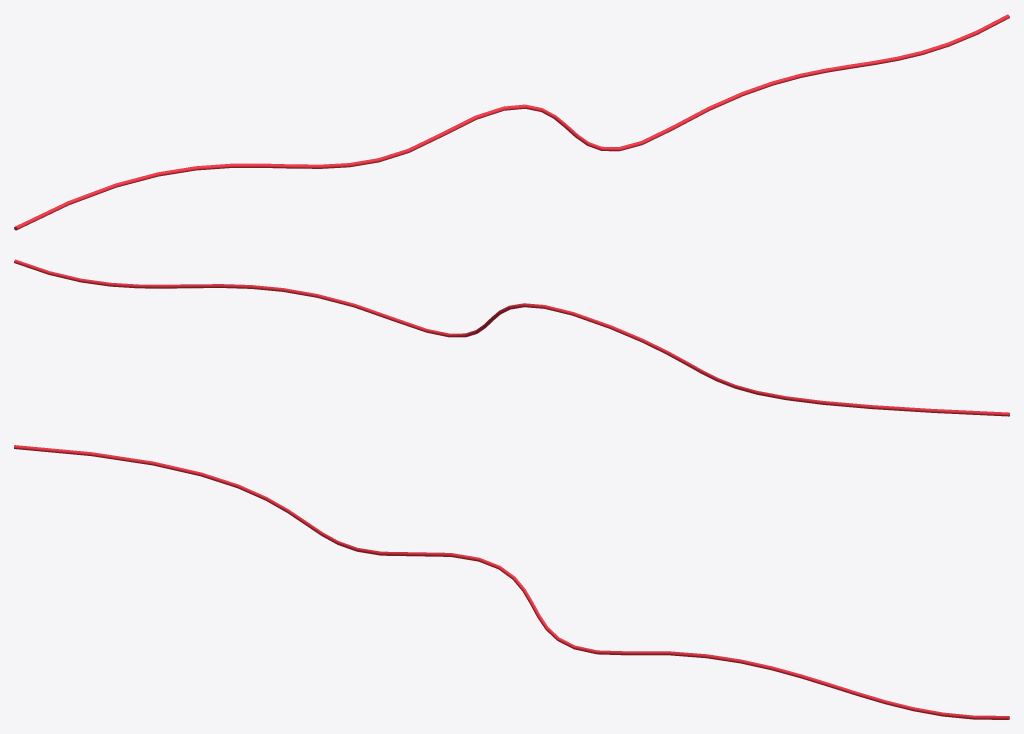
File: red_noodle1.gltf
3 renders of one model, top to bottom at view 1: azimuth 30°, elevation 25°; view 2: azimuth 150°, elevation 25°; view 3: azimuth 330°, elevation 25°, orthographic. The views are drawn at different scales.
Visible parts, largest first — view 1: ベジエカーブ; view 2: ベジエカーブ; view 3: ベジエカーブ.
Part boxes in pixels (x1,y1,x2,y2): ベジエカーブ: (14, 14, 1009, 230); ベジエカーブ: (14, 259, 1009, 416); ベジエカーブ: (14, 445, 1009, 719).
Size of the model in its own units: 5.51 by 0.384 by 0.3615.
